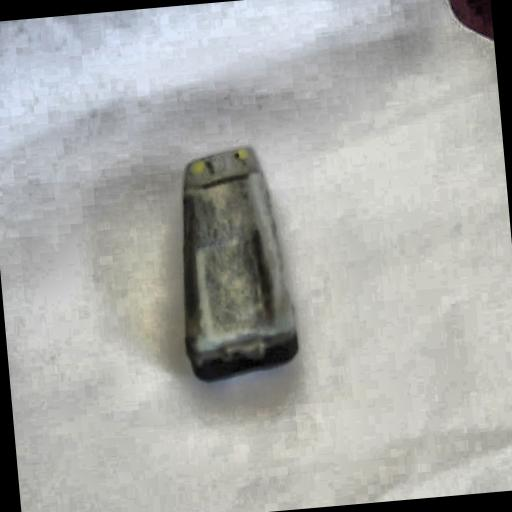normal_car: (160, 136, 311, 392)
